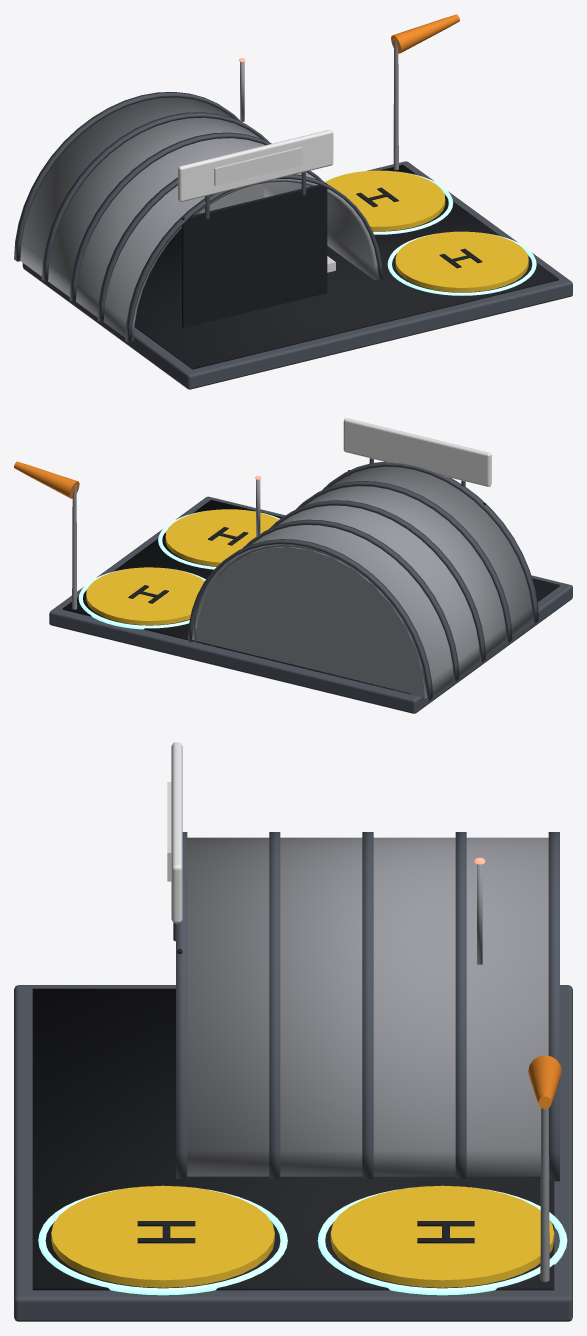
Rendered from DroneStation.fbx.
3 views of the same model, one above another, from view 1: azimuth 30°, elevation 25°; view 2: azimuth 150°, elevation 25°; view 3: azimuth 270°, elevation 25° (orthographic). The views are drawn at different scales.
Parts seen in each view (by area): view 1: Body__Black, Body__Grey, Body__MetalDark, Body__Yellow, Body__White, Body__Grey~2, Body__Blue!1, Windsock__Orange, Ring1__NeonCyan, Ring0__NeonCyan; view 2: Body__Grey, Body__Grey~2, Body__MetalDark, Body__Yellow, Body__White, Body__Black, Windsock__Orange, Ring0__NeonCyan, Ring1__NeonCyan; view 3: Body__Grey, Body__Black, Body__MetalDark, Body__Yellow, Ring1__NeonCyan, Ring0__NeonCyan, Body__Grey~2, Body__White, Windsock__Orange.
Boxes of the visible parts, x1,y1,x2,y2 form: Body__Black: (134, 164, 558, 369); Body__Grey: (20, 97, 378, 340); Body__MetalDark: (14, 92, 572, 389); Body__Yellow: (325, 170, 528, 292); Body__White: (178, 130, 333, 201); Body__Grey~2: (198, 39, 398, 213); Body__Blue!1: (214, 147, 302, 186); Windsock__Orange: (391, 14, 459, 53); Ring1__NeonCyan: (387, 232, 536, 295); Ring0__NeonCyan: (324, 170, 453, 234); Body__Grey: (192, 466, 532, 698); Body__Grey~2: (72, 479, 424, 697); Body__MetalDark: (49, 458, 572, 713); Body__Yellow: (86, 509, 278, 625); Body__White: (343, 418, 491, 486); Body__Black: (62, 470, 559, 694); Windsock__Orange: (14, 461, 79, 498); Ring0__NeonCyan: (78, 568, 205, 629); Ring1__NeonCyan: (158, 510, 280, 569); Body__Grey: (187, 837, 548, 1176); Body__Black: (32, 949, 554, 1290); Body__MetalDark: (14, 832, 572, 1321); Body__Yellow: (51, 1185, 554, 1287); Ring1__NeonCyan: (38, 1187, 287, 1295); Ring0__NeonCyan: (317, 1187, 567, 1295); Body__Grey~2: (477, 864, 549, 1281); Body__White: (171, 742, 182, 923); Windsock__Orange: (528, 1055, 561, 1108).
Bounding box in the file's own units: 9.13 × 4.14 × 6.
